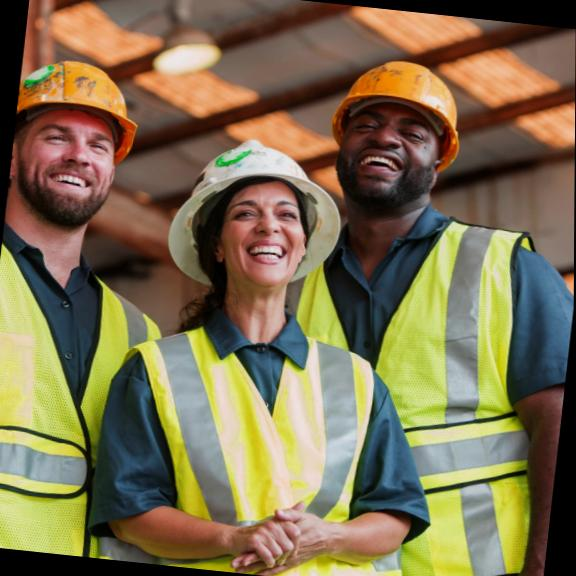safety_vest: (269, 201, 543, 576), (133, 311, 384, 576), (0, 260, 165, 562)
